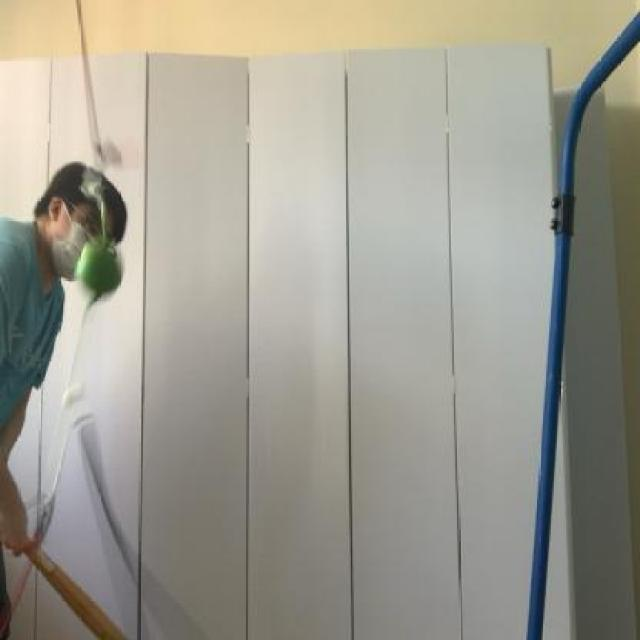baseball: (74, 234, 124, 301)
